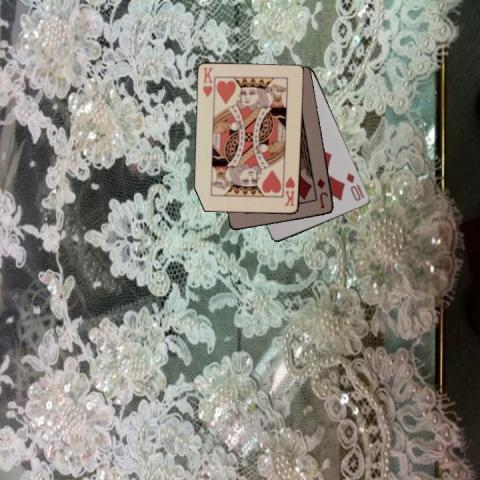10d: (343, 170, 363, 203)
Jd: (314, 175, 329, 210)
Kh: (200, 65, 215, 99), (282, 174, 297, 207)
